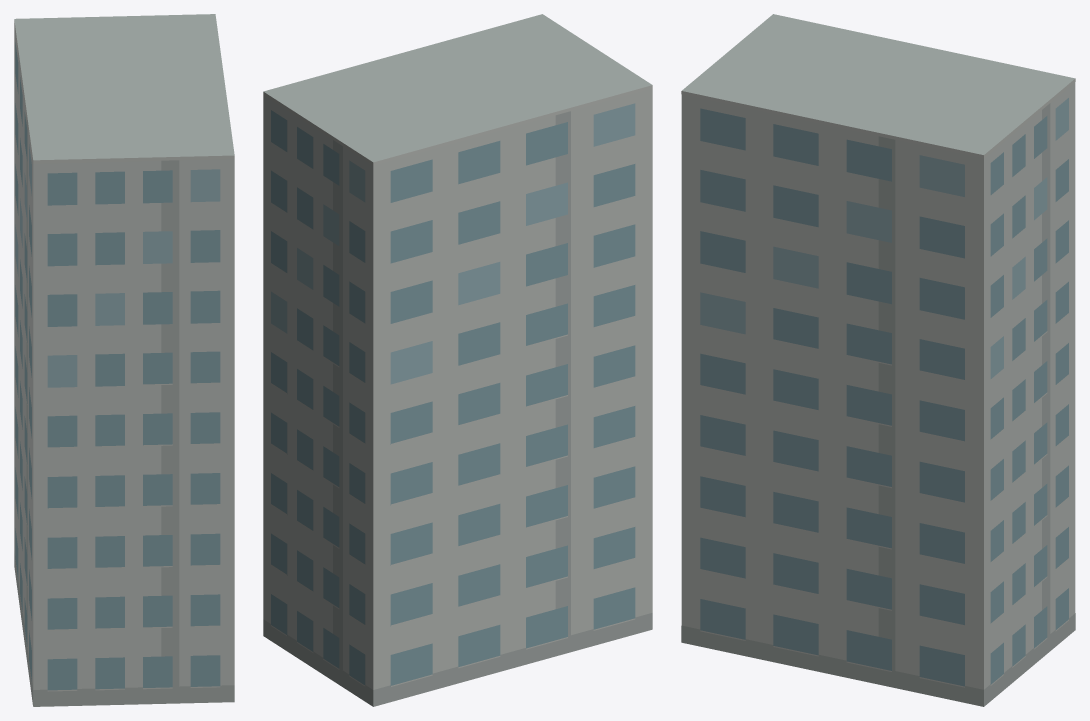
The model's file is residential-091a4111-0604-42ce-b443-ec5fa0f5ae1a.glb.
3 views of the same model, side by side, from view 1: azimuth 30°, elevation 25°; view 2: azimuth 150°, elevation 25°; view 3: azimuth 270°, elevation 25° (orthographic).
Parts seen in each view (by area): view 1: residential-091a4111-0604-42ce-b443-ec5fa0f5ae1a.tmp; view 2: residential-091a4111-0604-42ce-b443-ec5fa0f5ae1a.tmp; view 3: residential-091a4111-0604-42ce-b443-ec5fa0f5ae1a.tmp.
Boxes of the visible parts, box(x1,y1,x2,y2) form: residential-091a4111-0604-42ce-b443-ec5fa0f5ae1a.tmp: box(14, 14, 234, 706); residential-091a4111-0604-42ce-b443-ec5fa0f5ae1a.tmp: box(263, 14, 652, 706); residential-091a4111-0604-42ce-b443-ec5fa0f5ae1a.tmp: box(681, 14, 1075, 706).
Bounding box in the file's own units: 21.41 × 39 × 25.25.
